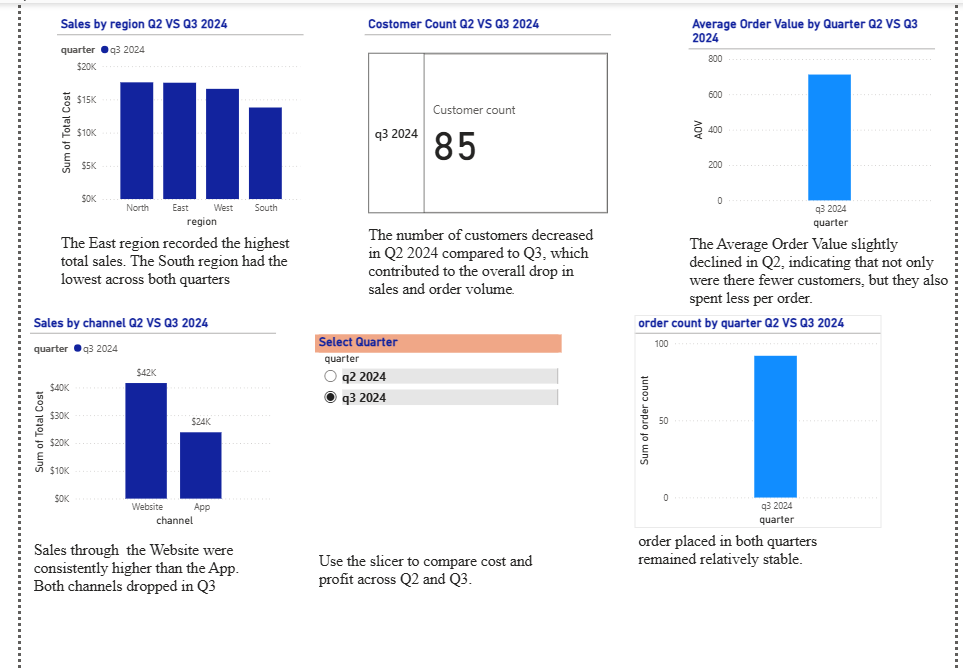

The page's visual inventory and layout, read from the dashboard file:
{"tool":"powerbi","page":{"name":"SALES DROP BREAKDOWN 2","canvas":[1280,914],"ordinal":2},"visuals":[{"type":"clusteredColumnChart","title":"Sales by region Q2 VS Q3 2024","fields":{"Category":["Sheet1.region"],"Y":["Sum(Sheet1.total cost)"],"Series":["Sheet1.quarter"]},"box":[49.4,18.3,338.2,292.5],"z":0},{"type":"clusteredColumnChart","title":"Sales by channel Q2 VS Q3 2024","fields":{"Category":["Sheet1.channel"],"Y":["Sum(Sheet1.total cost)"],"Series":["Sheet1.quarter"]},"box":[11.8,426.7,337.6,294],"z":1000},{"type":"cardVisual","title":"Costomer Count Q2 VS Q3 2024","fields":{"Data":["Sheet1.Customer count"],"Rows":["Sheet1.quarter"]},"box":[469.8,18.3,338.2,294.3],"z":2000},{"type":"slicer","title":"Select Quarter","fields":{"Values":["Sheet1.quarter"]},"box":[402.2,453.3,338.2,292.5],"z":3000},{"type":"clusteredColumnChart","title":"Average Order Value by Quarter Q2 VS Q3 2024","fields":{"Y":["Sheet1.AOV"],"Category":["Sheet1.quarter"]},"box":[914,18.3,338.2,294.3],"z":4000},{"type":"clusteredColumnChart","title":"order count by quarter Q2 VS Q3 2024","fields":{"Category":["Sheet1.quarter"],"Y":["Sum(Sheet1.order count)"]},"box":[840.9,427.8,338.2,292.5],"z":5000},{"type":"textbox","box":[49.4,310.8,336.4,107.9],"z":6000},{"type":"textbox","box":[12.8,731.2,336.4,102.4],"z":7000},{"type":"textbox","box":[469.8,299.8,338.2,118.8],"z":8000},{"type":"textbox","box":[910.3,312.6,369.3,113.3],"z":9000},{"type":"textbox","box":[840.9,720.2,338.2,102.4],"z":10000},{"type":"textbox","box":[402.2,745.8,305.3,76.8],"z":11000}]}

Visuals, with their boxes in screenshot pixels (x1, y1, x2, y2), scaled from the page's 1280x914 canvas onto the 963x670 screenshot:
"Sales by region Q2 VS Q3 2024" clusteredColumnChart: left=37, top=13, right=292, bottom=228
"Sales by channel Q2 VS Q3 2024" clusteredColumnChart: left=9, top=313, right=263, bottom=528
"Costomer Count Q2 VS Q3 2024" cardVisual: left=353, top=13, right=608, bottom=229
"Select Quarter" slicer: left=303, top=332, right=557, bottom=547
"Average Order Value by Quarter Q2 VS Q3 2024" clusteredColumnChart: left=688, top=13, right=942, bottom=229
"order count by quarter Q2 VS Q3 2024" clusteredColumnChart: left=633, top=314, right=887, bottom=528
textbox: left=37, top=228, right=290, bottom=307
textbox: left=10, top=536, right=263, bottom=611
textbox: left=353, top=220, right=608, bottom=307
textbox: left=685, top=229, right=962, bottom=312
textbox: left=633, top=528, right=887, bottom=603
textbox: left=303, top=547, right=532, bottom=603
